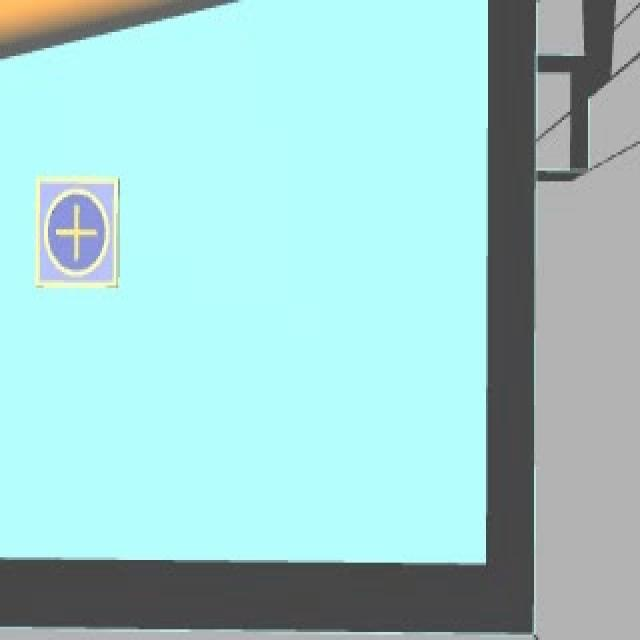Yellow-crosses: (55, 200, 100, 263)
